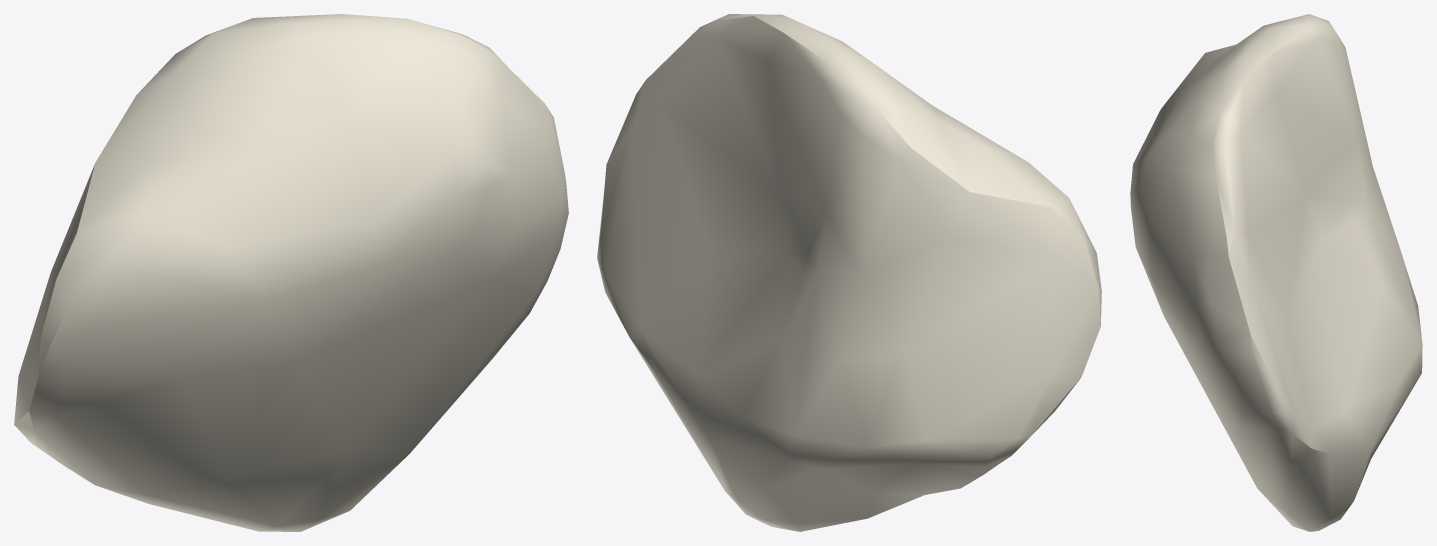
File: fma24487_fj6386.glb
3 views of the same model, side by side, from view 1: azimuth 30°, elevation 25°; view 2: azimuth 150°, elevation 25°; view 3: azimuth 270°, elevation 25° (orthographic). The views are drawn at different scales.
Visible parts, largest first — view 1: FMA24487_FJ6386; view 2: FMA24487_FJ6386; view 3: FMA24487_FJ6386.
Part boxes in pixels (bbox=[...]): FMA24487_FJ6386: bbox=[14, 14, 568, 531]; FMA24487_FJ6386: bbox=[597, 14, 1101, 531]; FMA24487_FJ6386: bbox=[1130, 14, 1422, 531].
Bounding box in the file's own units: 0.0417 × 0.0391 × 0.0216.
